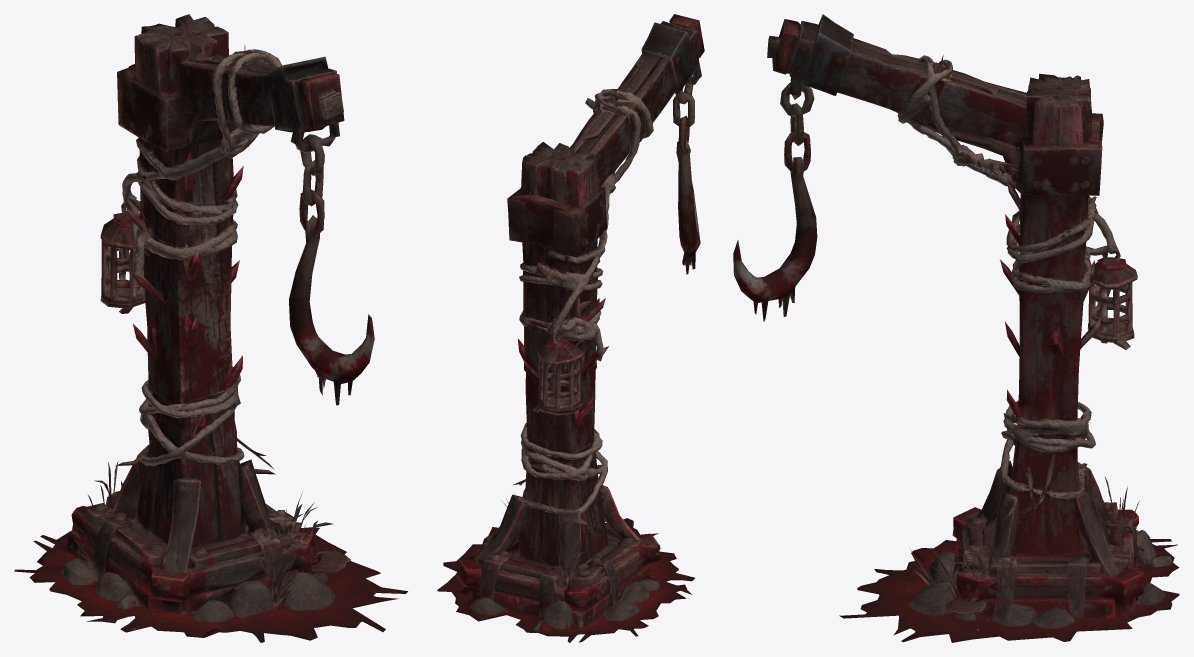
Rendered from hook.glb.
The picture shows the model from 3 angles, left to right: view 1: azimuth 30°, elevation 25°; view 2: azimuth 150°, elevation 25°; view 3: azimuth 270°, elevation 25°; orthographic projection. The views are drawn at different scales.
Visible parts, largest first — view 1: frame; view 2: frame; view 3: frame.
Boxes of the visible parts, <box> form: frame: <box>14,14,407,642</box>; frame: <box>437,14,704,642</box>; frame: <box>733,14,1179,642</box>.
Size of the model in its own units: 2.49 by 5.2 by 3.81.
Materials: 1 (1 with a texture image).
